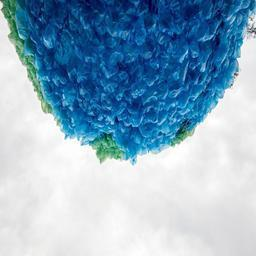plastic: (2, 0, 256, 162)
